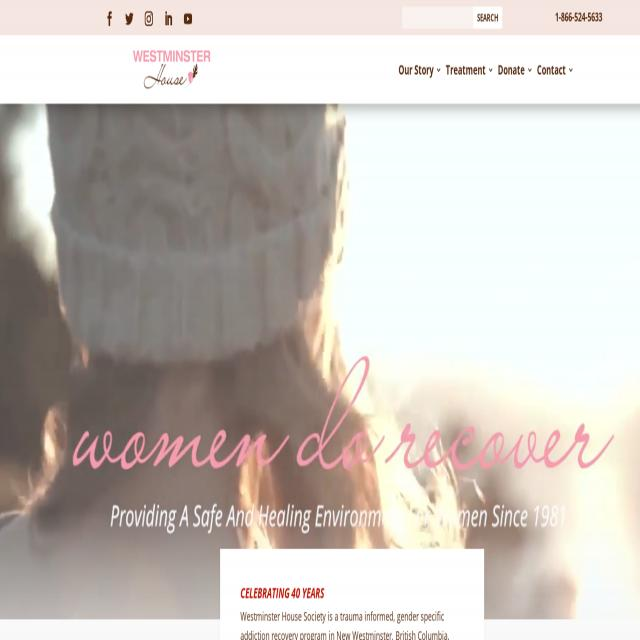button: (132, 51, 210, 89), (473, 3, 502, 33), (160, 3, 176, 32), (102, 4, 118, 33), (121, 4, 137, 33), (141, 4, 157, 33), (180, 4, 196, 33)
field: (402, 4, 502, 33)
